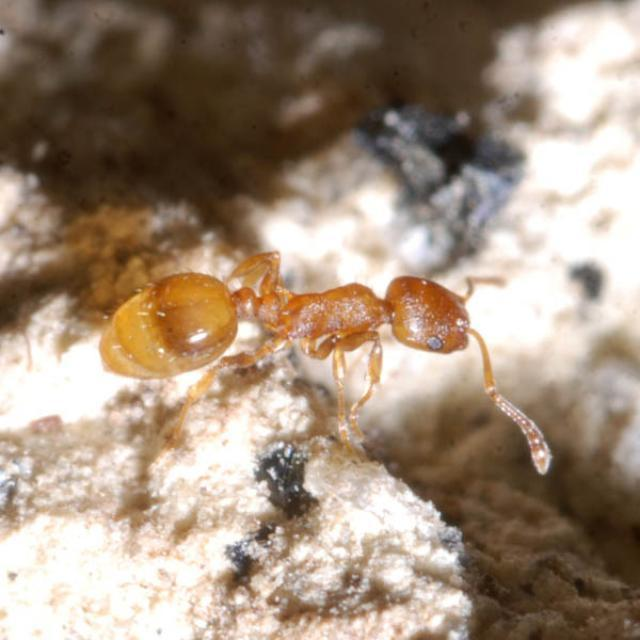Temnothorax: (111, 226, 508, 434)
